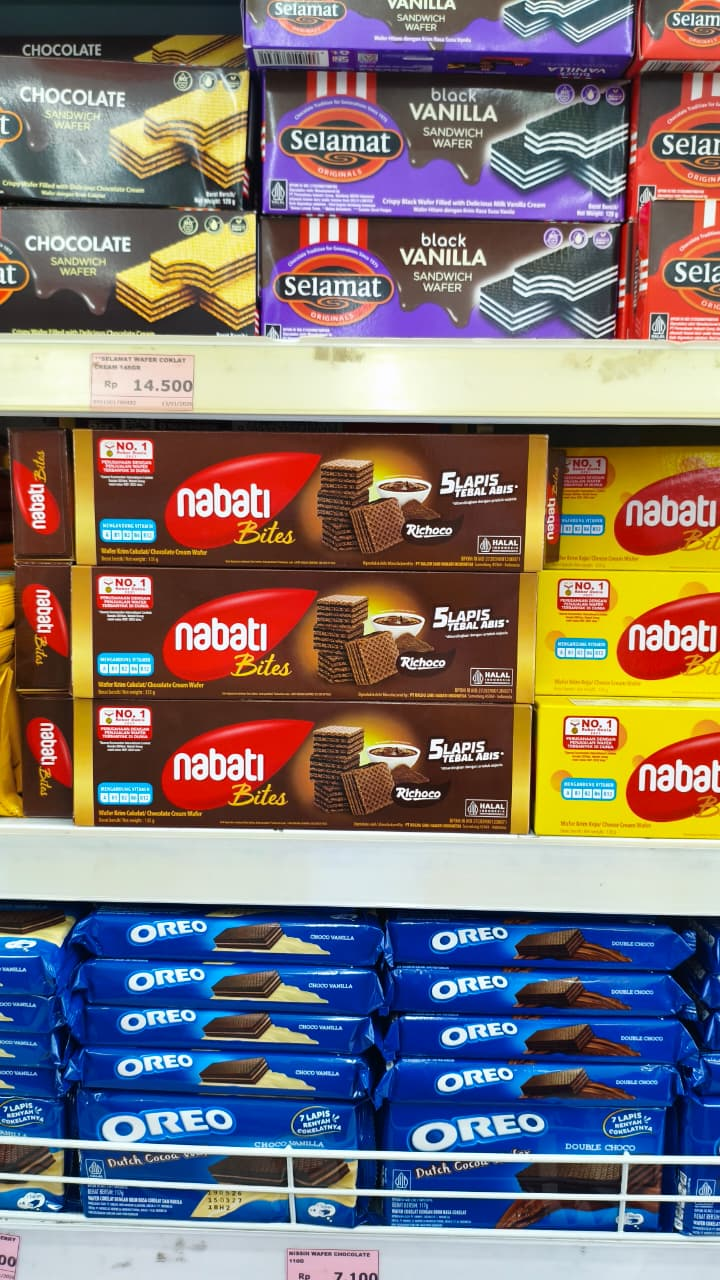Nabati: (90, 419, 493, 567), (79, 561, 482, 709), (76, 689, 479, 837)
Oreo: (385, 1106, 586, 1157), (83, 1100, 284, 1151)
Selamat Block Vanila: (223, 215, 626, 363), (254, 77, 657, 225)
